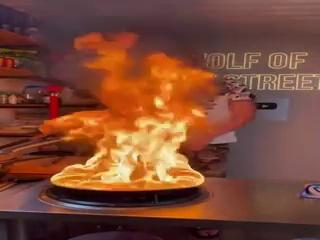Fire: (40, 28, 208, 182)
